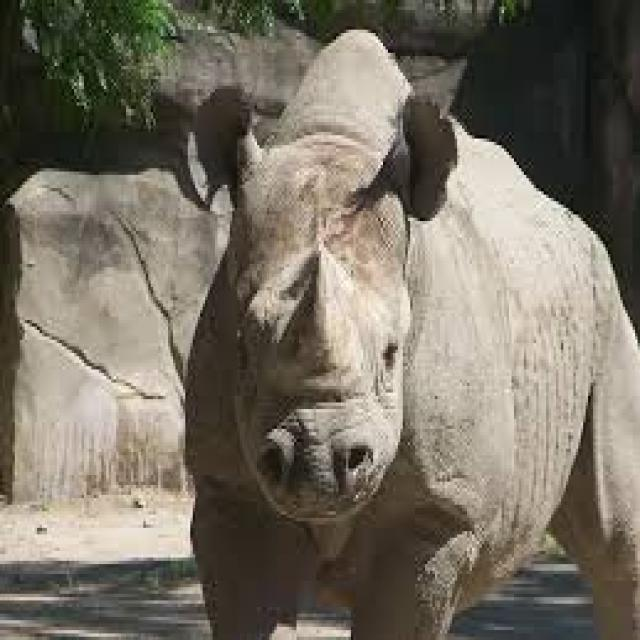rhinoceros: (185, 30, 638, 637)
